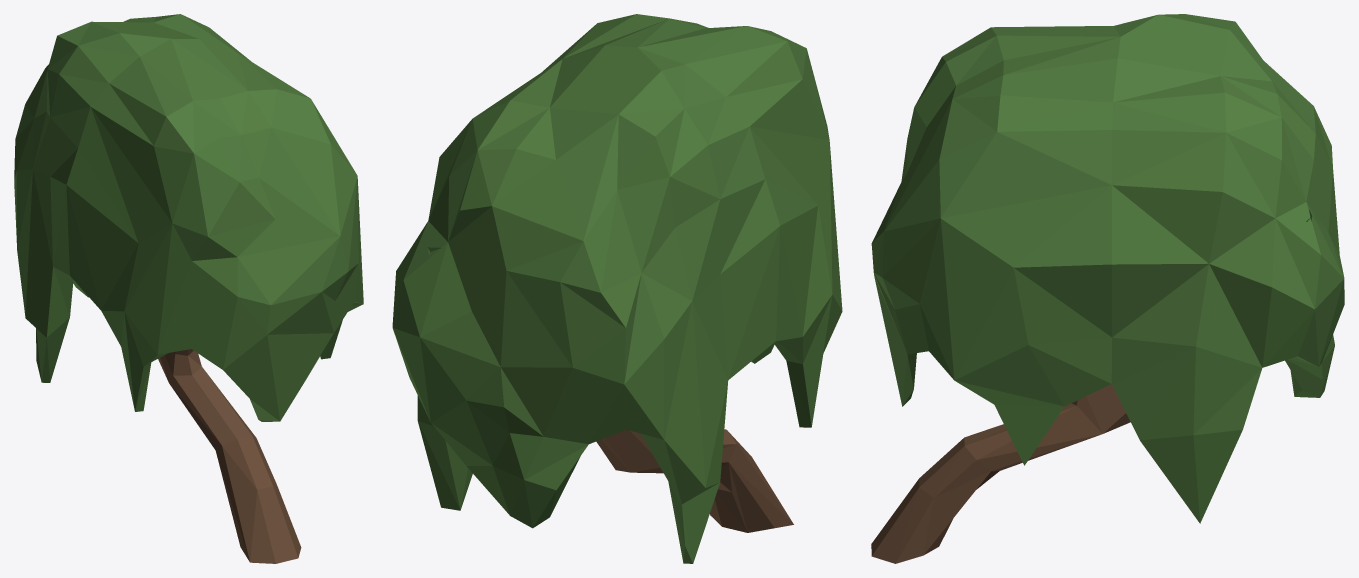
The model's file is Willow_3.glb.
3 views of the same model, side by side, from view 1: azimuth 30°, elevation 25°; view 2: azimuth 150°, elevation 25°; view 3: azimuth 270°, elevation 25° (orthographic). The views are drawn at different scales.
Parts seen in each view (by area): view 1: Willow_3; view 2: Willow_3; view 3: Willow_3.
Boxes of the visible parts, x1,y1,x2,y2 form: Willow_3: (14,14,363,563); Willow_3: (392,14,842,563); Willow_3: (871,14,1344,563).
Bounding box in the file's own units: 1.32 × 2.34 × 1.96.
